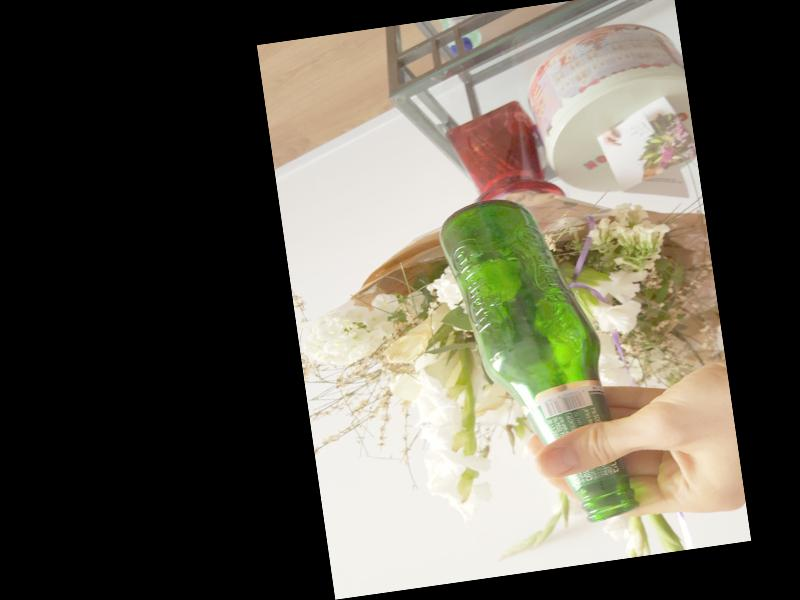Beer: (435, 187, 625, 537)
